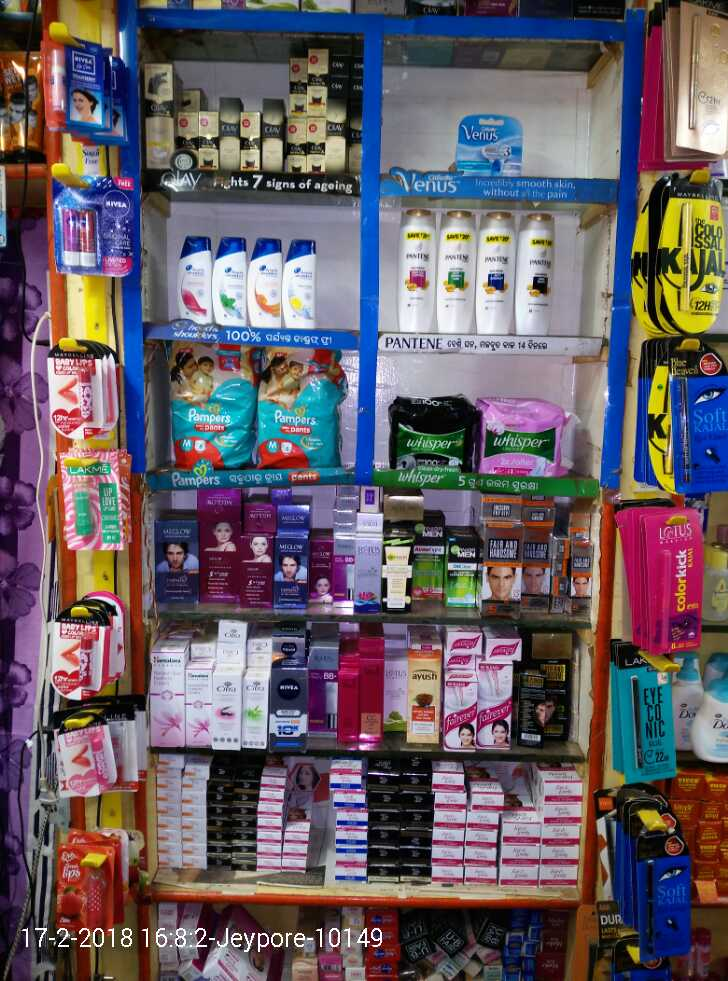venus: (455, 115, 524, 173)
